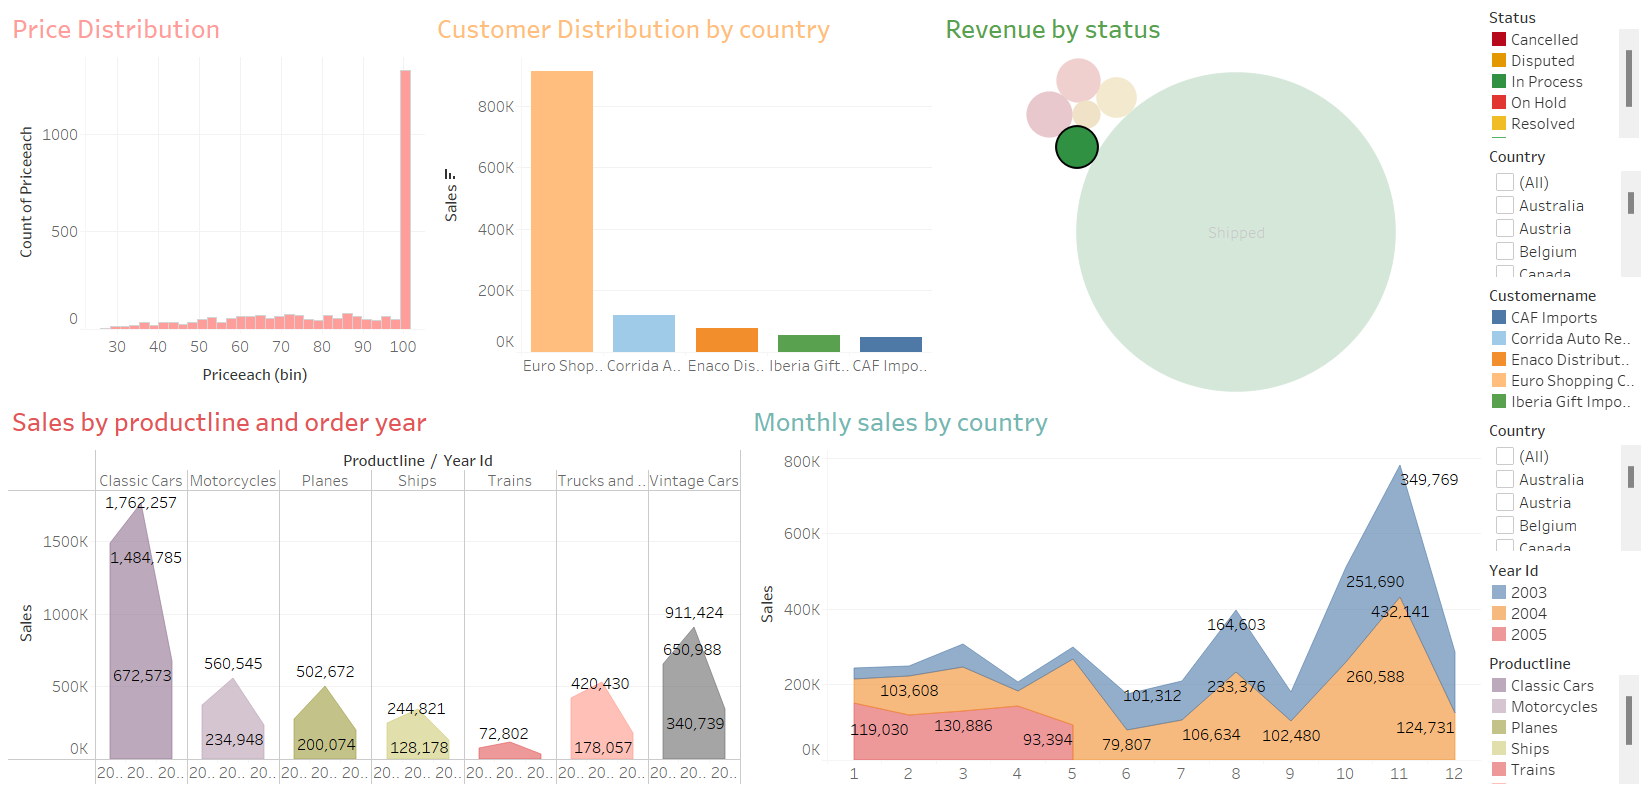

The page's visual inventory and layout, read from the dashboard file:
{"tool":"tableau","page":{"name":"SalesDashboard2","canvas":[1000,1000],"units":"permille","ordinal":1},"visuals":[{"type":"worksheet","title":"Price Distribution","mark":"Automatic","rows":["PRICEEACH"],"cols":["Priceeach (bin)"],"box":[4.8,10,256.8,490]},{"type":"worksheet","title":"Customer Distribution by country","mark":"Automatic","rows":["SALES"],"cols":["CUSTOMERNAME"],"box":[261.6,10,306.2,490]},{"type":"worksheet","title":"Revenue by status","mark":"Circle","box":[567.8,10,330.9,490]},{"type":"legend","title":"Revenue by status","param":"[federated.0qrt0lt1fm83l2168r84a05kqjxi].[none:STATUS:nk]","box":[898.6,10,96.6,173.8]},{"type":"filter","title":"Customer Distribution by country","param":"[federated.0qrt0lt1fm83l2168r84a05kqjxi].[none:COUNTRY:nk]","box":[898.6,183.8,96.6,173.8]},{"type":"legend","title":"Customer Distribution by country","param":"[federated.0qrt0lt1fm83l2168r84a05kqjxi].[none:CUSTOMERNAME:nk]","box":[898.6,357.7,96.6,168.5]},{"type":"worksheet","title":"Sales by productline and order year","mark":"Area","rows":["SALES"],"cols":["PRODUCTLINE","YEAR_ID"],"box":[4.8,500,446.9,490]},{"type":"worksheet","title":"Monthly sales by country","mark":"Area","rows":["SALES"],"cols":["MONTH_ID"],"box":[451.7,500,446.9,490]},{"type":"filter","title":"Monthly sales by country","param":"[federated.0qrt0lt1fm83l2168r84a05kqjxi].[none:COUNTRY:nk]","box":[898.6,526.2,96.6,173.8]},{"type":"legend","title":"Monthly sales by country","param":"[federated.0qrt0lt1fm83l2168r84a05kqjxi].[none:YEAR_ID:ok]","box":[898.6,700.1,96.6,116.1]},{"type":"legend","title":"Sales by productline and order year","param":"[federated.0qrt0lt1fm83l2168r84a05kqjxi].[none:PRODUCTLINE:nk]","box":[898.6,816.2,96.6,173.8]}]}

Visuals, with their boxes on the dashboard's canvas, which has no fixed pixel size, in thousandths of its width and height (x1, y1, x2, y2). These are canvas units, not pixel positions in the 1645x790 screenshot, which may show the page scaled, cropped or inside an application window:
"Price Distribution" worksheet: (5,10,262,500)
"Customer Distribution by country" worksheet: (262,10,568,500)
"Revenue by status" worksheet (Circle marks): (568,10,899,500)
"Revenue by status" legend: (899,10,995,184)
"Customer Distribution by country" filter: (899,184,995,358)
"Customer Distribution by country" legend: (899,358,995,526)
"Sales by productline and order year" worksheet (Area marks): (5,500,452,990)
"Monthly sales by country" worksheet (Area marks): (452,500,899,990)
"Monthly sales by country" filter: (899,526,995,700)
"Monthly sales by country" legend: (899,700,995,816)
"Sales by productline and order year" legend: (899,816,995,990)
